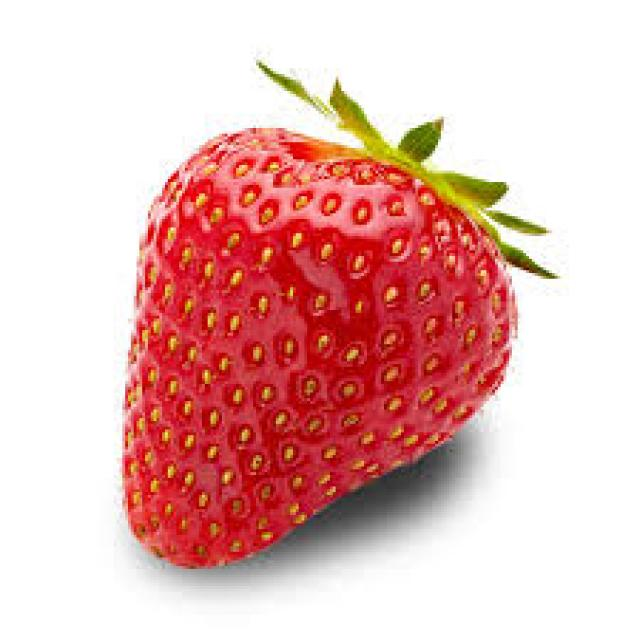organic waste: (120, 54, 560, 569)
